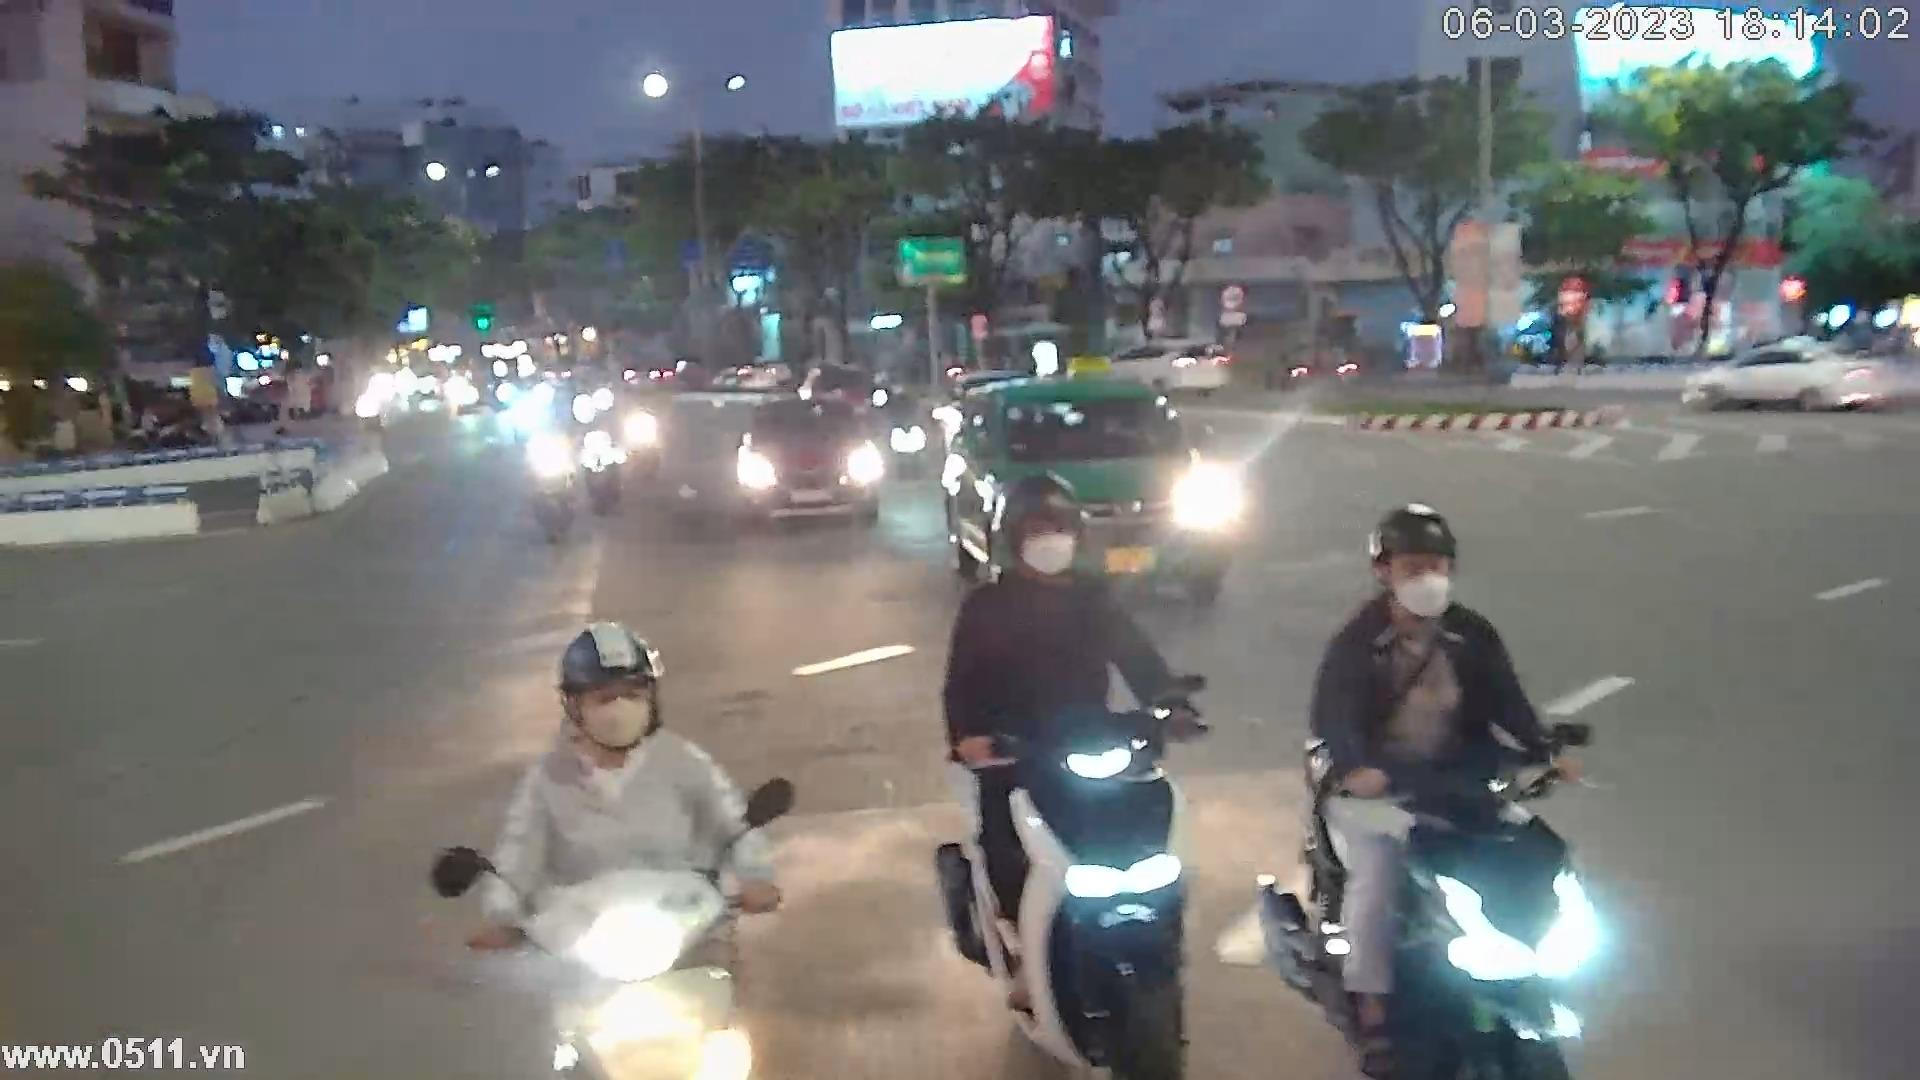car: (940, 378, 1234, 612), (732, 390, 894, 538), (1684, 328, 1892, 418)
motorcycle: (1253, 500, 1621, 1080), (429, 611, 800, 1080), (931, 459, 1209, 1080)
